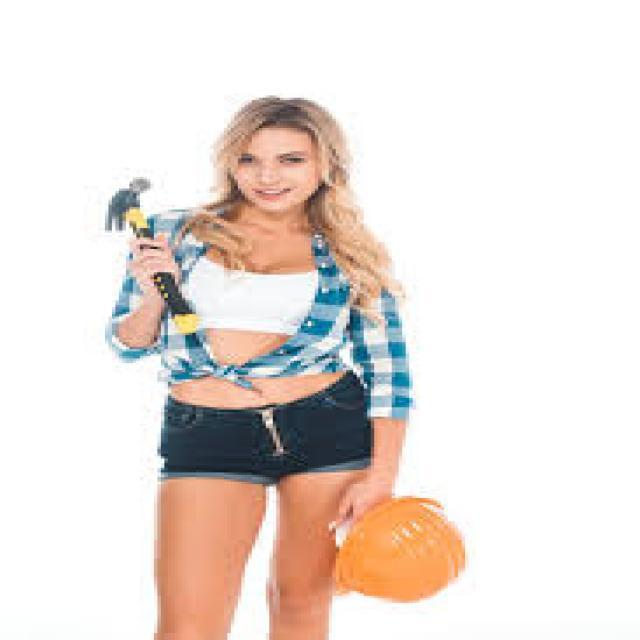hammer: (96, 172, 212, 356)
